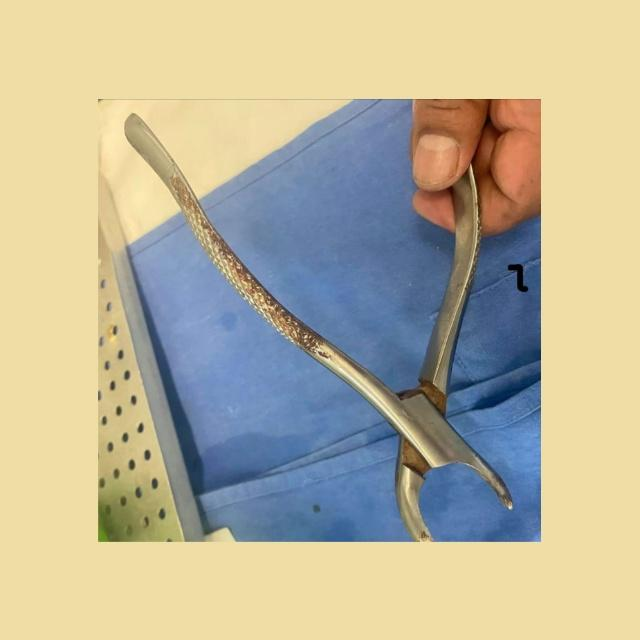forceps: (125, 113, 506, 543)
